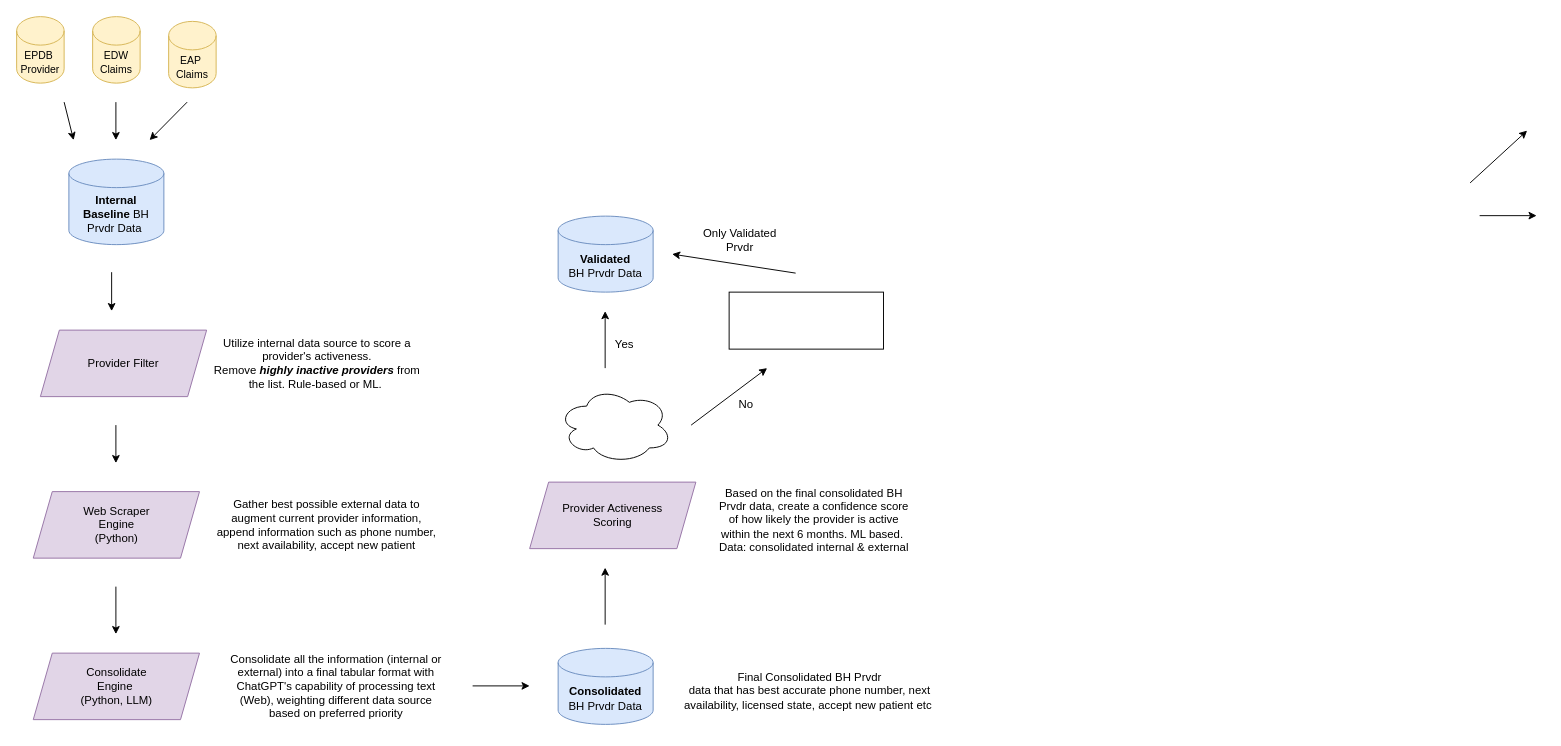
The diagram is 1561 pixels wide and 746 high, and some of its shapes have lost their labels. Each missing label, with the centre of its shape:
"High Confidence Prvdr?" belongs at [614,424].
"Manual Validation for Medium-Low confidence Prvdr" belongs at [806,320].
